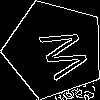W: (29, 24, 91, 85)
